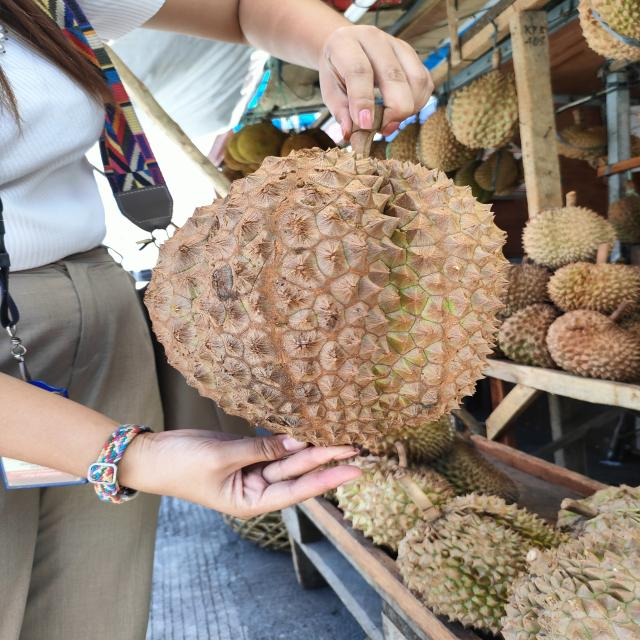mature: (148, 150, 514, 452)
